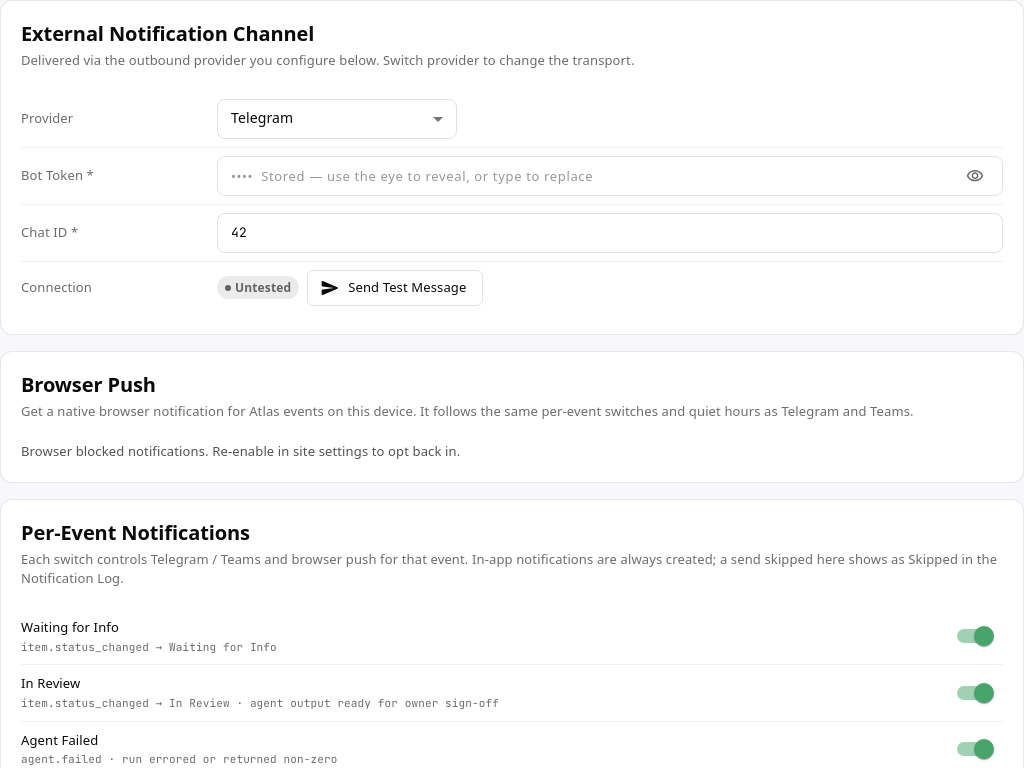
Test: NotificationsTab › a rejected test (HTTP 400) shows "Test failed" and flips the pill to Not connected
Expected: the field showing "42" is shown, [217,212,1003,252]
Click the button "Send Test Message" at (395,288), box [307,270,484,306]
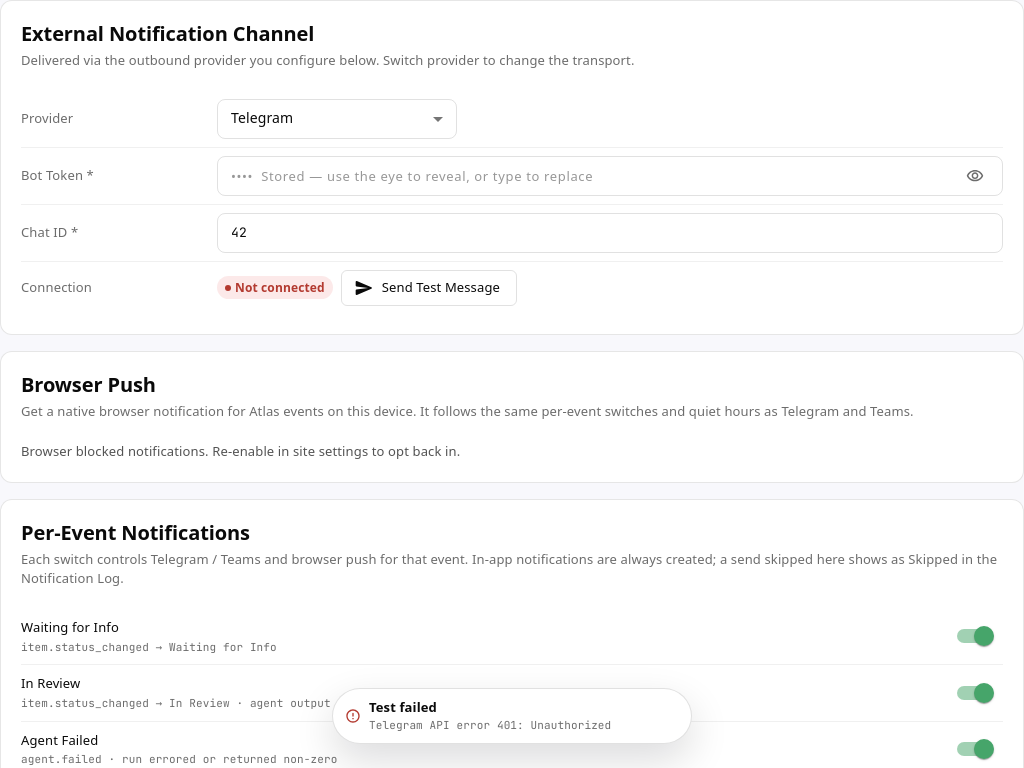
Result: the text "Test failed" is shown at [369,698,437,716]
Result: the text "Not connected" is shown at [217,276,333,299]
